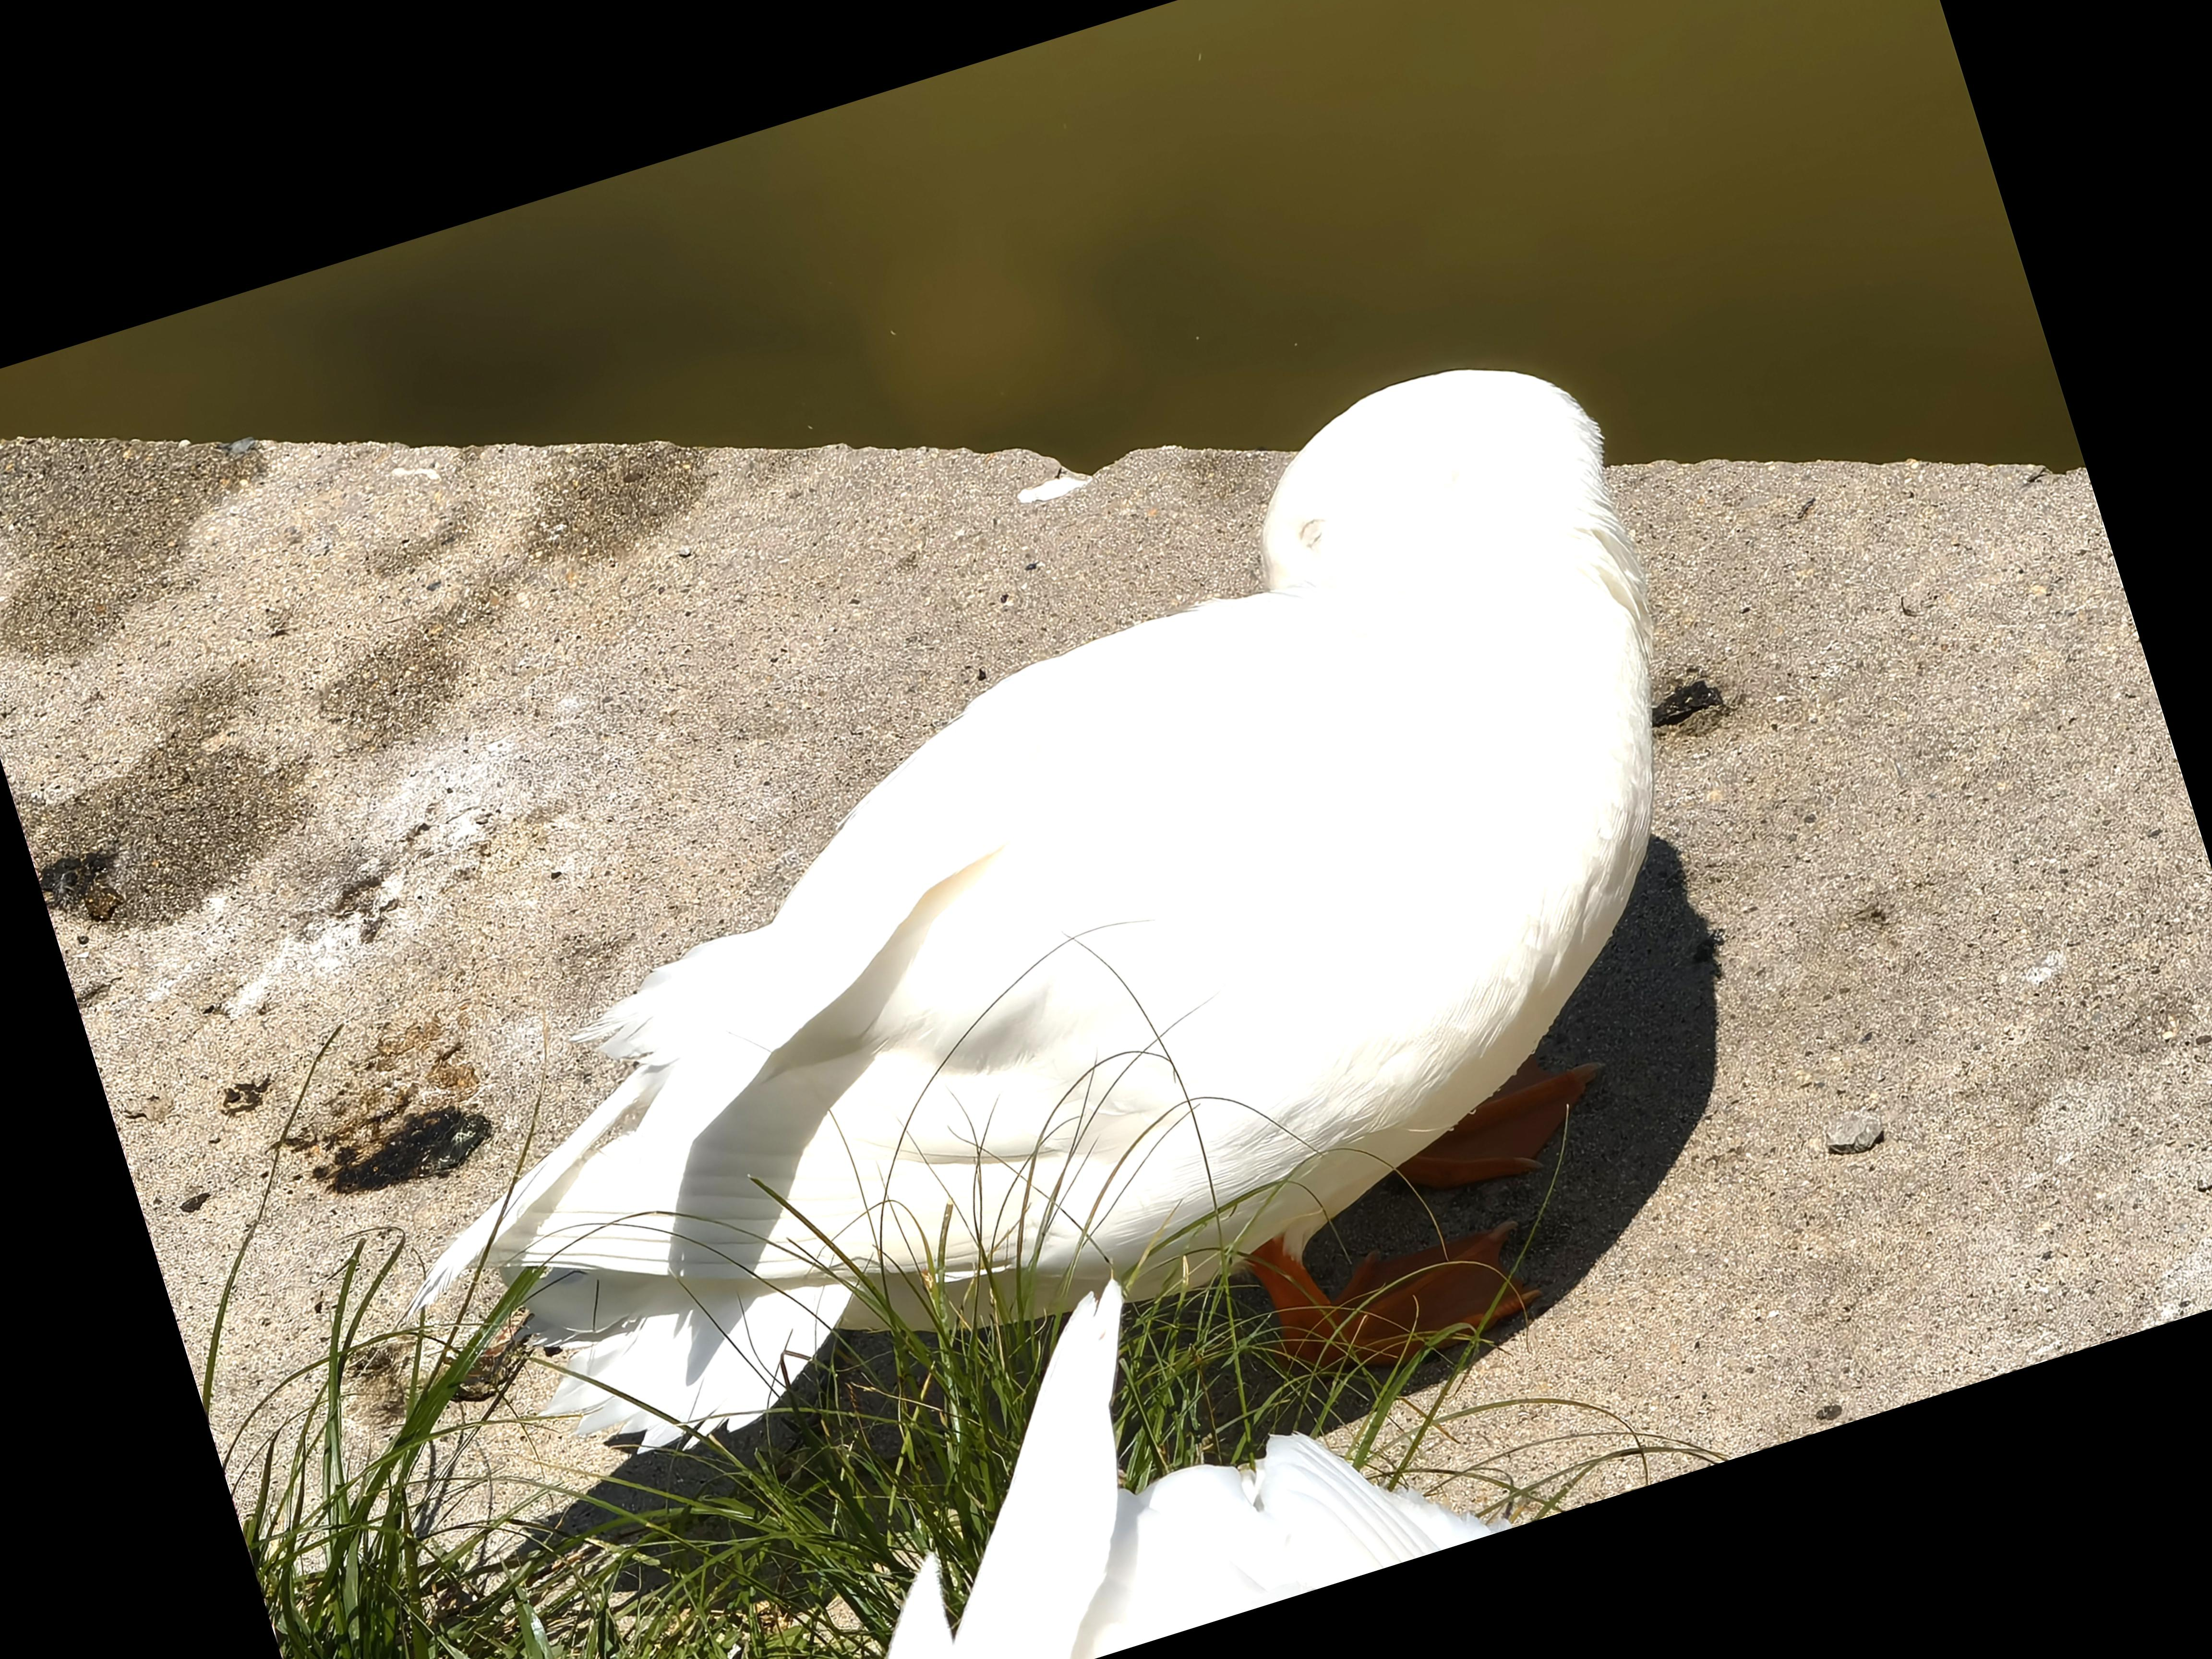duck: (185, 272, 1857, 1574)
